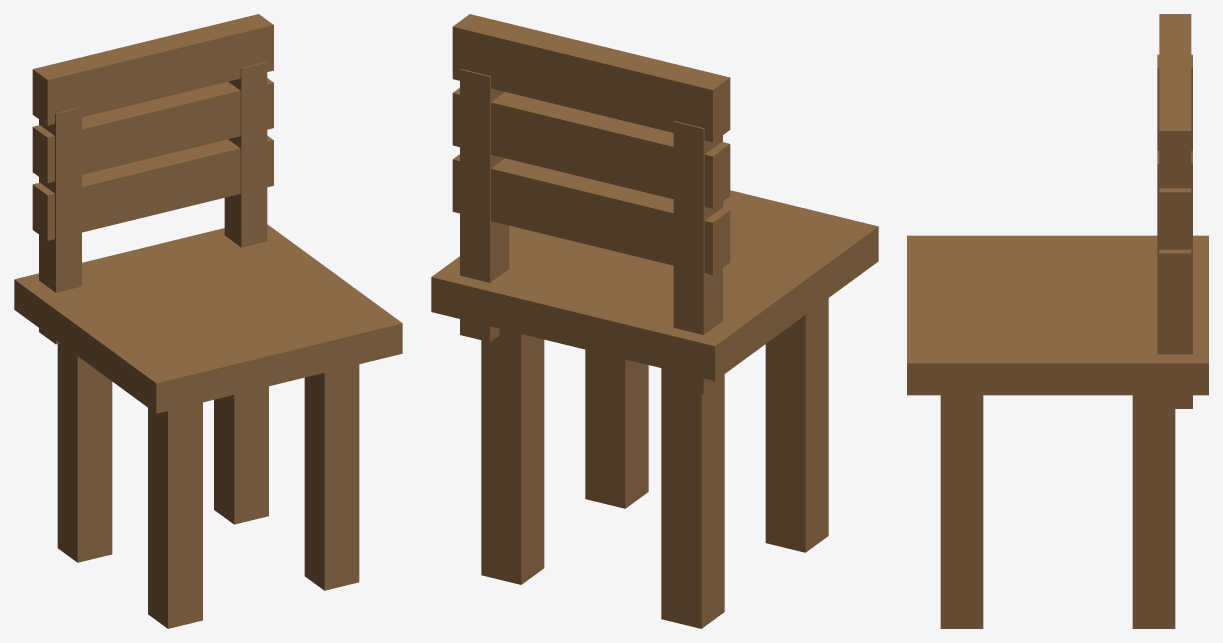
The model's file is good.glb.
3 views of the same model, side by side, from view 1: azimuth 30°, elevation 25°; view 2: azimuth 150°, elevation 25°; view 3: azimuth 270°, elevation 25° (orthographic). The views are drawn at different scales.
Parts seen in each view (by area): view 1: Back slat; view 2: Back slat; view 3: Back slat.
Boxes of the visible parts, <box> form: Back slat: <box>14,14,402,628</box>; Back slat: <box>431,14,878,628</box>; Back slat: <box>907,14,1208,628</box>.
Bounding box in the file's own units: 1.06 × 1.97 × 1.06.
